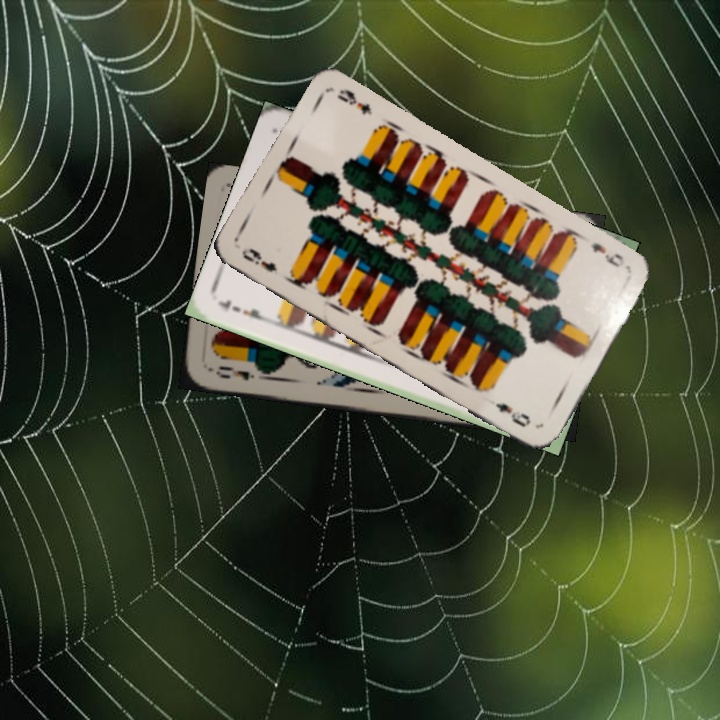E7: (214, 295, 272, 325)
E9: (237, 244, 280, 275), (588, 238, 627, 270)
EO: (211, 361, 258, 383)
